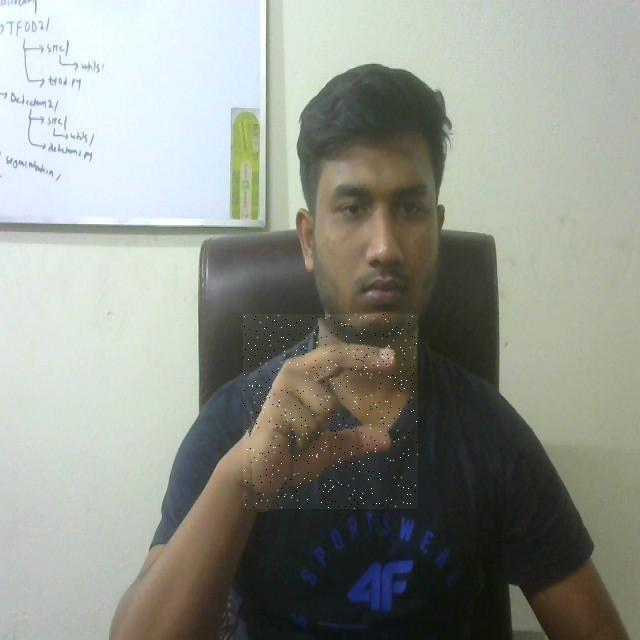No: (243, 314, 418, 509)
